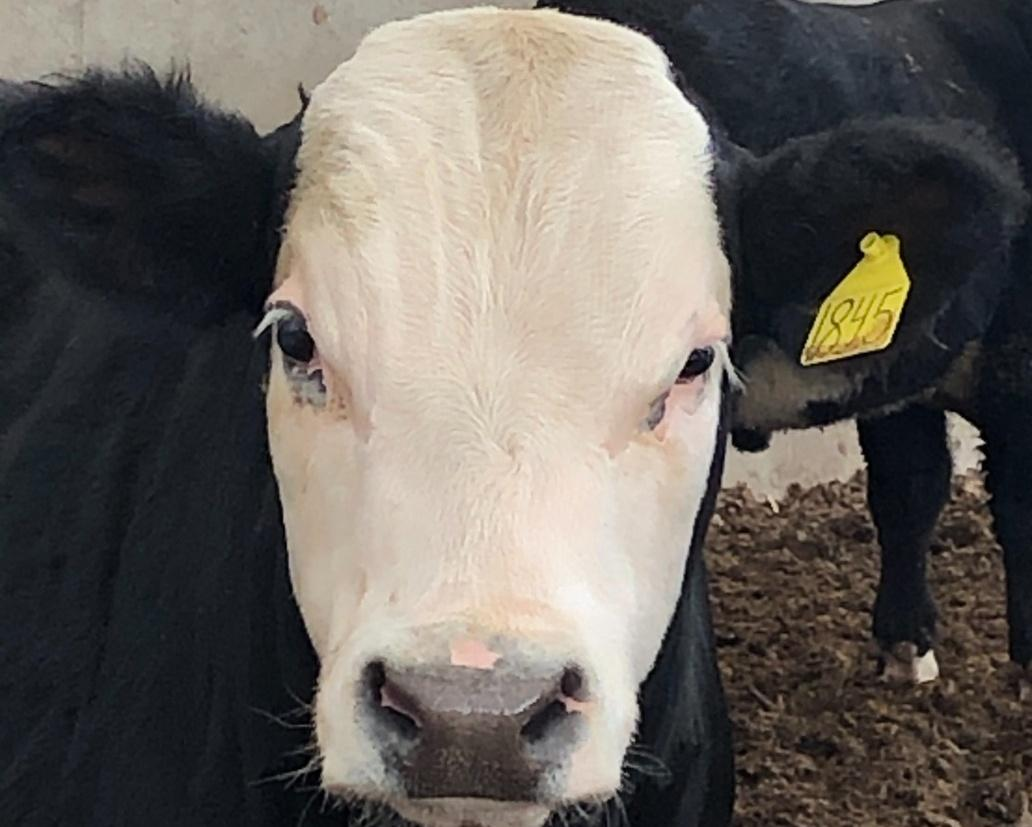muzzles: (287, 626, 652, 827)
